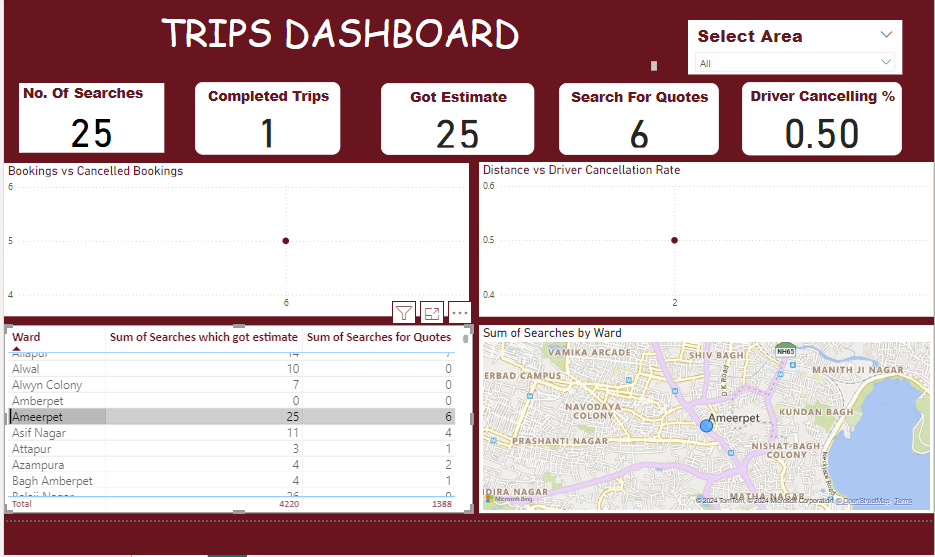

This screenshot's page, from the dashboard's own definition file:
{"tool":"powerbi","page":{"name":"Page 1","canvas":[1280,720],"ordinal":0},"visuals":[{"type":"card","title":"Completed Trips","fields":{"Values":["Sum(Today Table-Hyderabad-Wards (1).Completed Trips)"]},"box":[262.5,117.5,200,100],"z":0},{"type":"card","title":"Driver Cancelling %","fields":{"Values":["Sum(Today Table-Hyderabad-Wards (1).Driver Cancellation Rate)"]},"box":[1016.2,117.5,220,101.2],"z":1000},{"type":"card","title":"Got Estimate","fields":{"Values":["Sum(Today Table-Hyderabad-Wards (1).Searches)"]},"box":[518.8,118.8,211.2,98.8],"z":2000},{"type":"card","title":"Search For Quotes","fields":{"Values":["Sum(Today Table-Hyderabad-Wards (1).Searches for Quotes)"]},"box":[763.8,118.8,220,98.8],"z":3000},{"type":"slicer","fields":{"Values":["Today Table-Hyderabad-Wards (1).Ward"]},"box":[941.2,31.2,295,75],"z":4000},{"type":"lineChart","title":"Bookings vs Cancelled Bookings","fields":{"Category":["Today Table-Hyderabad-Wards (1).Bookings"],"Y":["Sum(Today Table-Hyderabad-Wards (1).Cancelled Bookings)"]},"box":[0,228.8,640,211.2],"z":5000},{"type":"lineChart","title":"Distance vs Driver Cancellation Rate","fields":{"Category":["Today Table-Hyderabad-Wards (1).Distance Travelled (km)"],"Y":["Sum(Today Table-Hyderabad-Wards (1).Driver Cancellation Rate)"]},"box":[653.8,227.5,626.2,212.5],"z":6000},{"type":"tableEx","fields":{"Values":["Today Table-Hyderabad-Wards (1).Ward","Sum(Today Table-Hyderabad-Wards (1).Searches which got estimate)","Sum(Today Table-Hyderabad-Wards (1).Searches for Quotes)"]},"box":[0,451.2,645,258.8],"z":7000},{"type":"map","fields":{"Category":["Today Table-Hyderabad-Wards (1).Ward"],"Size":["Sum(Today Table-Hyderabad-Wards (1).Searches)"]},"box":[653.8,451.2,626.2,258.8],"z":8000},{"type":"card","title":"No. Of Searches ","fields":{"Values":["Sum(Today Table-Hyderabad-Wards (1).Searches)"]},"box":[21.2,118.8,200,96.2],"z":10000},{"type":"textbox","title":"TRIPS DASHBOARD","box":[21.2,12.5,882.5,93.8],"z":10001}]}

Visuals, with their boxes in screenshot pixels (x1, y1, x2, y2):
"Completed Trips" card: box=[196, 82, 340, 154]
"Driver Cancelling %" card: box=[739, 82, 898, 155]
"Got Estimate" card: box=[381, 83, 533, 154]
"Search For Quotes" card: box=[558, 83, 716, 154]
slicer - Today Table-Hyderabad-Wards (1).Ward: box=[685, 20, 898, 74]
"Bookings vs Cancelled Bookings" lineChart: box=[7, 162, 468, 315]
"Distance vs Driver Cancellation Rate" lineChart: box=[478, 161, 929, 315]
tableEx - Today Table-Hyderabad-Wards (1).Ward x Sum(Today Table-Hyderabad-Wards (1).Searches which got estimate): box=[7, 323, 472, 509]
map - Today Table-Hyderabad-Wards (1).Ward x Sum(Today Table-Hyderabad-Wards (1).Searches): box=[478, 323, 929, 509]
"No. Of Searches " card: box=[23, 83, 167, 152]
"TRIPS DASHBOARD" textbox: box=[23, 7, 658, 74]
